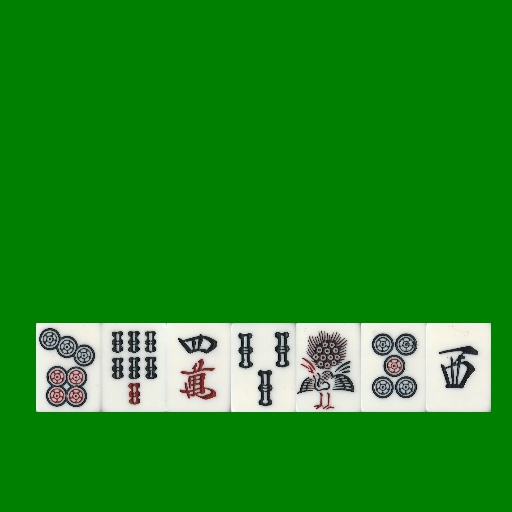1s: (296, 323, 361, 412)
3s: (231, 323, 296, 412)
4m: (166, 323, 231, 412)
5p: (361, 323, 426, 412)
7p: (36, 323, 101, 412)
7s: (101, 323, 166, 412)
west: (426, 323, 491, 412)
